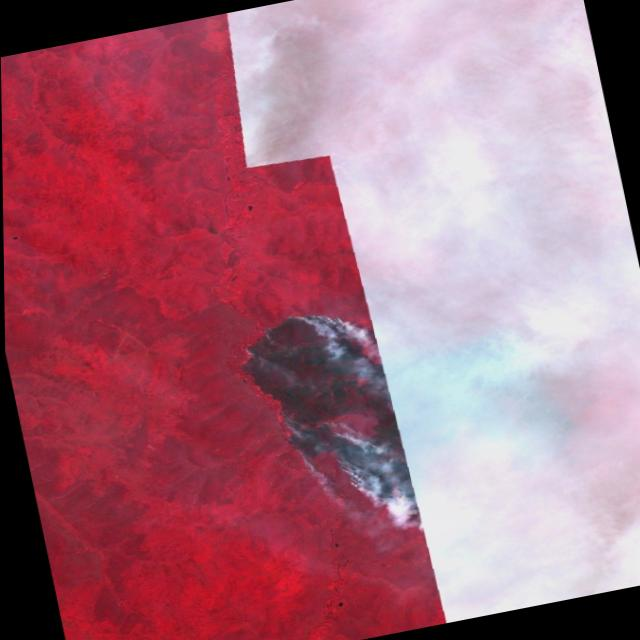fire: (226, 294, 419, 536)
